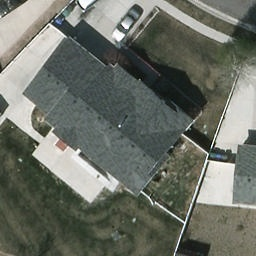car: (112, 6, 142, 43), (74, 1, 117, 11)
